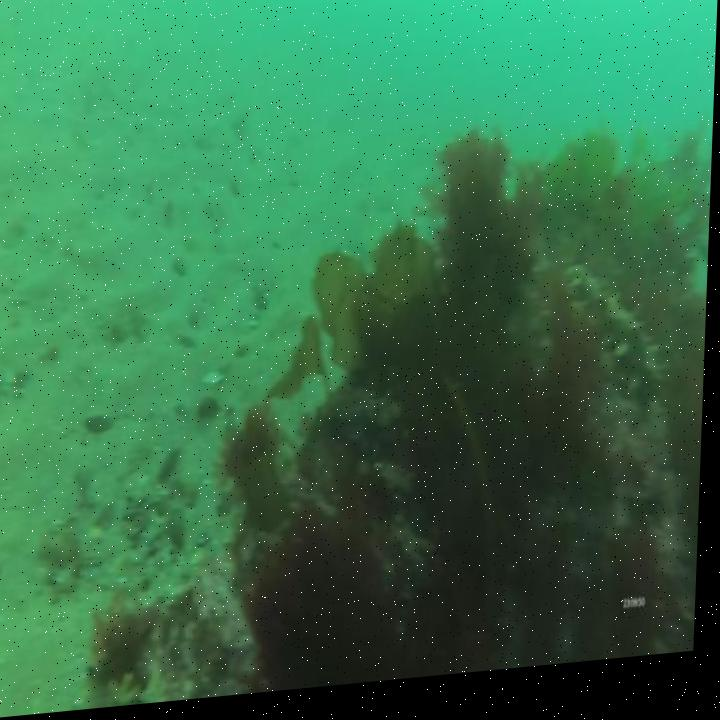holothurian: (562, 257, 678, 429)
